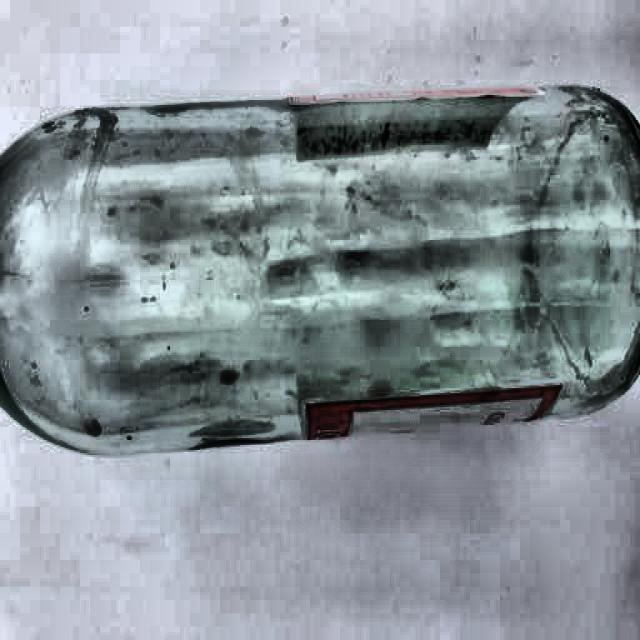glass: (4, 81, 640, 465)
